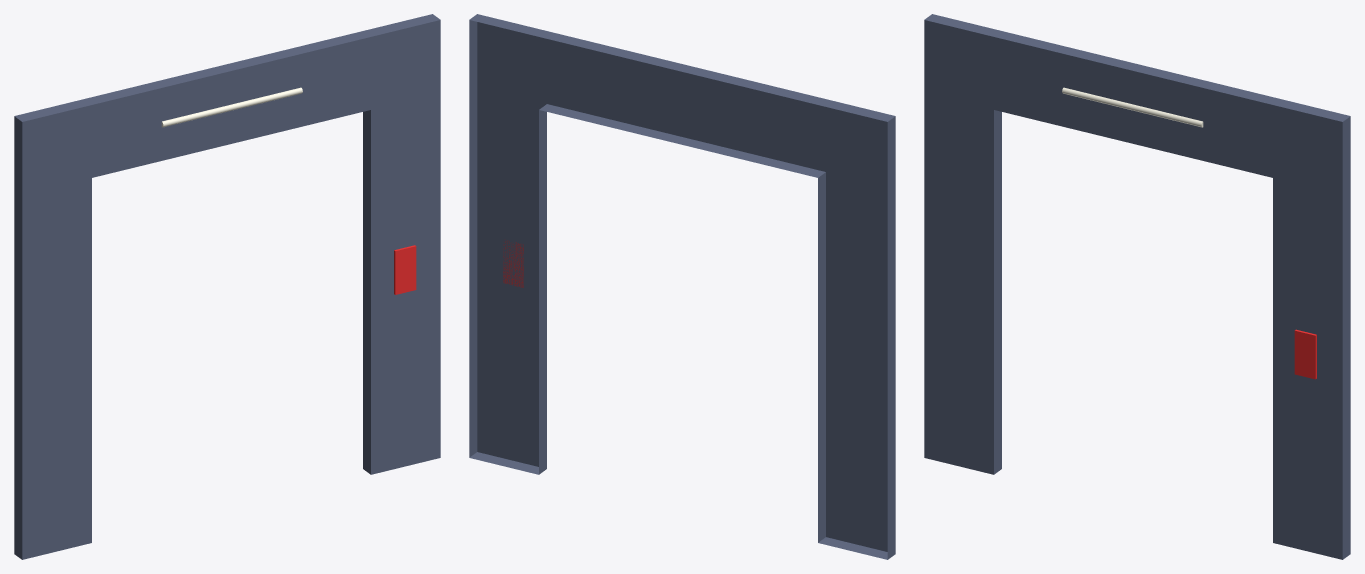
File: ElevatorExterior.fbx
3 views of the same model, side by side, from view 1: azimuth 30°, elevation 25°; view 2: azimuth 150°, elevation 25°; view 3: azimuth 330°, elevation 25° (orthographic).
Visible parts, largest first — view 1: Button003; view 2: Button003; view 3: Button003.
Part boxes in pixels (x1=…): Button003: x1=14, y1=14, x2=440, y2=559; Button003: x1=469, y1=14, x2=895, y2=559; Button003: x1=924, y1=14, x2=1350, y2=559.
Size of the model in its own units: 3 by 3 by 0.1197.
